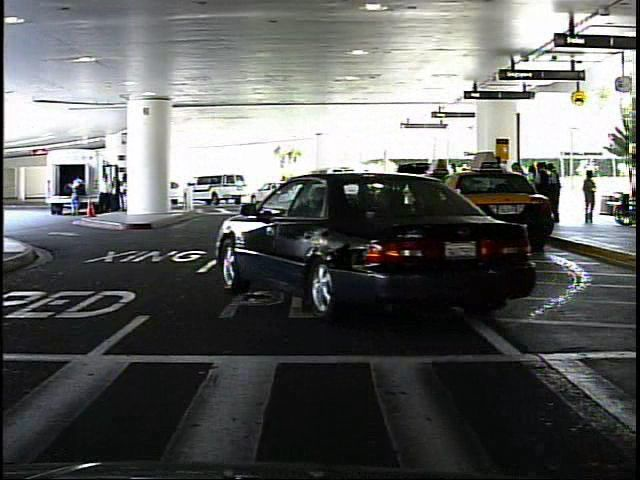person: (356, 165, 380, 220), (580, 164, 599, 228)
